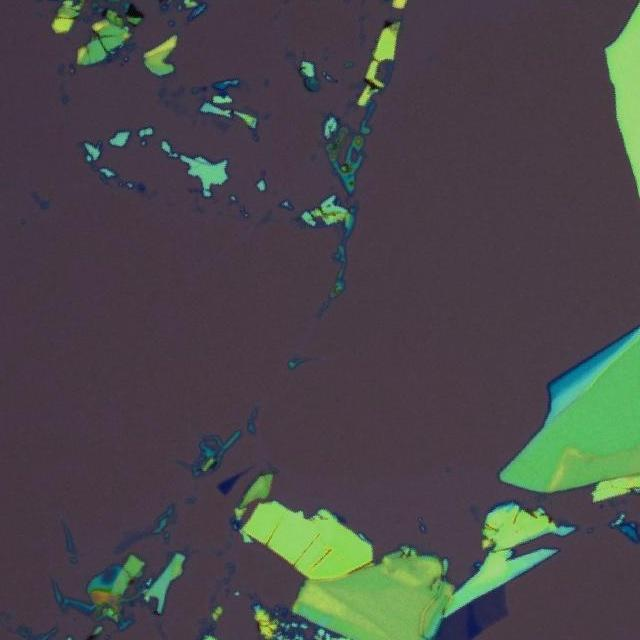monolayer-eWW4: (474, 586, 509, 628)
